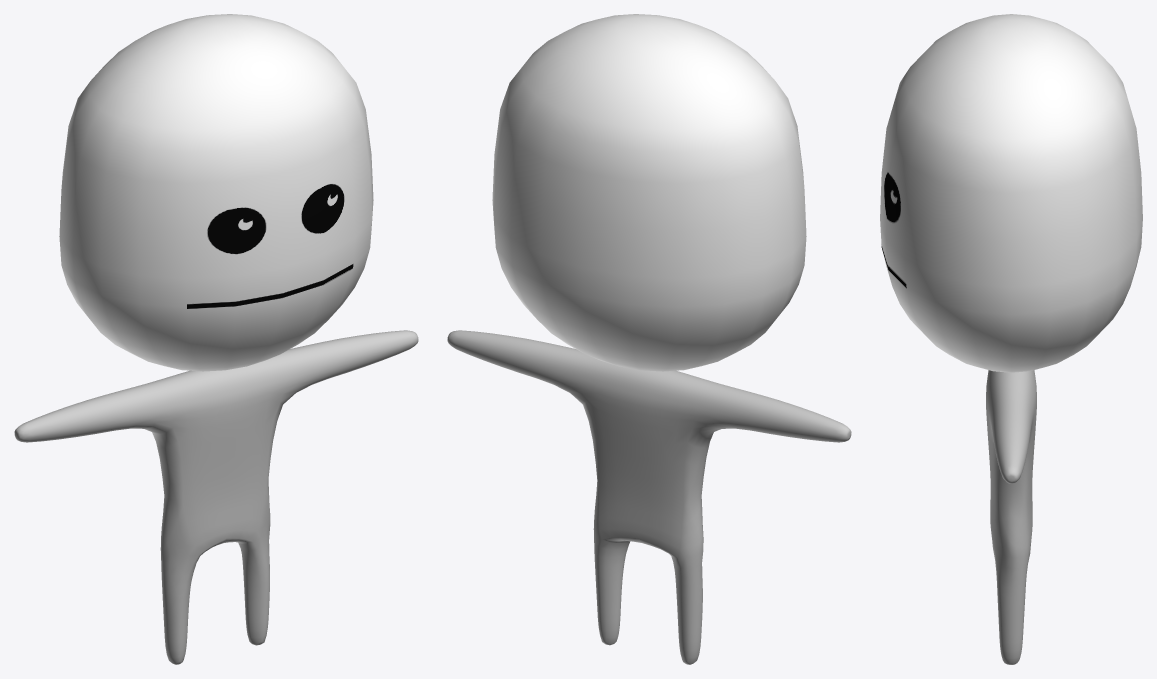
Rendered from Bullfighter Bill.fbx.
The picture shows the model from 3 angles, left to right: view 1: azimuth 30°, elevation 25°; view 2: azimuth 150°, elevation 25°; view 3: azimuth 270°, elevation 25°; orthographic projection. The views are drawn at different scales.
Parts seen in each view (by area): view 1: pSphere1, pCylinder1; view 2: pSphere1, pCylinder1; view 3: pSphere1, pCylinder1.
Part boxes in pixels (x1,y1,x2,y2): pSphere1: (59, 14, 373, 371); pCylinder1: (14, 330, 418, 664); pSphere1: (492, 14, 806, 371); pCylinder1: (447, 330, 851, 664); pSphere1: (880, 14, 1142, 372); pCylinder1: (986, 370, 1036, 664).
Bounding box in the file's own units: 1.05 × 1.58 × 0.6123.
